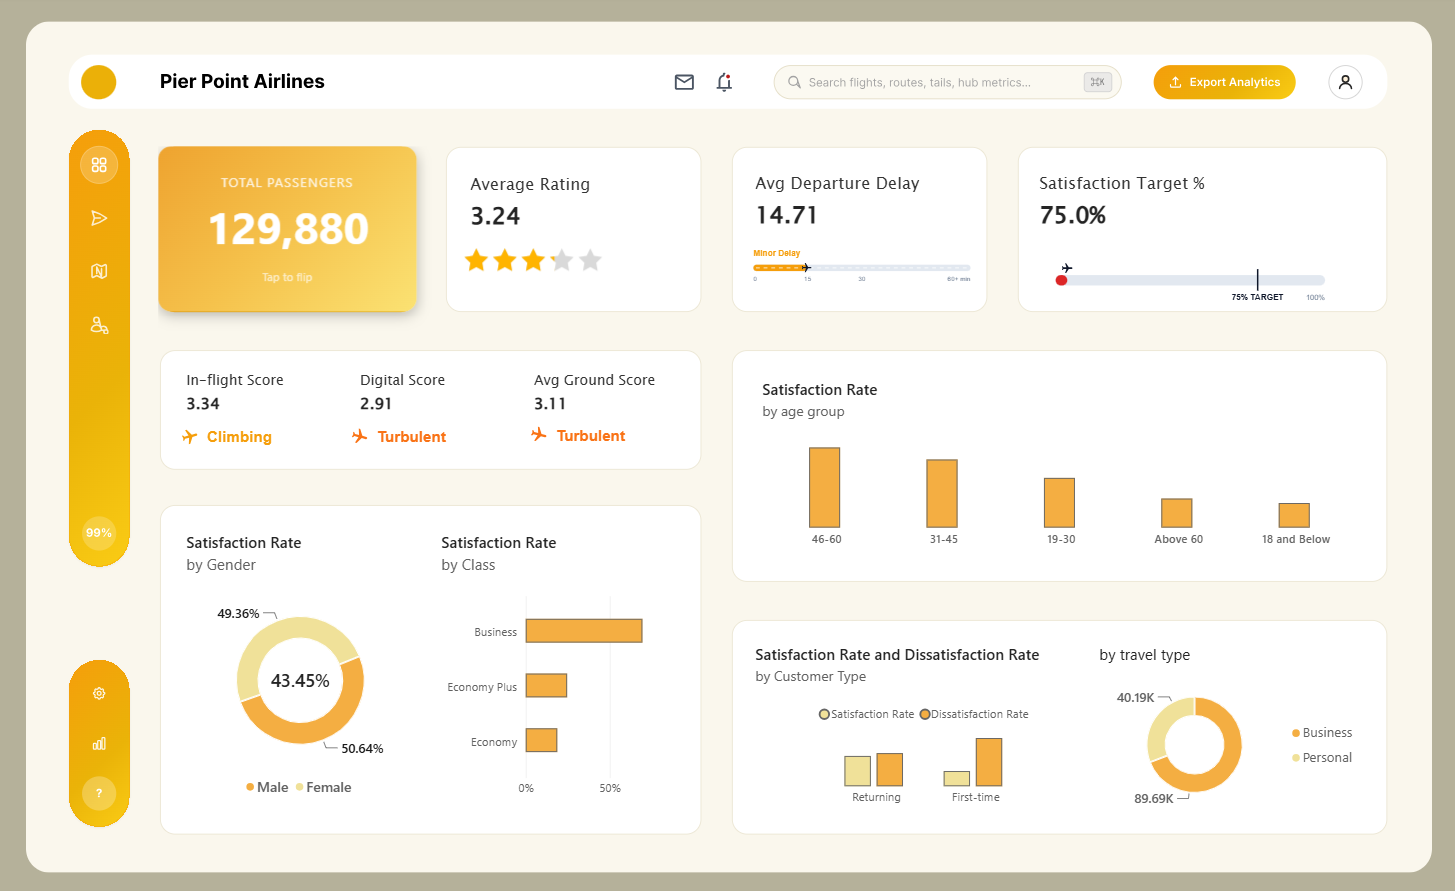

What the dashboard file says about the page in this screenshot:
{"tool":"powerbi","page":{"name":"Dashboard","canvas":[1802,1080],"ordinal":0},"visuals":[{"type":"htmlContent443BE3AD55E043BF878BED274D3A6855","fields":{"content":["Dax Calculations.Flip Card Passengers"]},"box":[283.8,207.5,367.5,227.5],"z":0},{"type":"cardVisual","fields":{"Data":["Dax Calculations.Avg Rating/Service Score"]},"box":[612.5,223.8,195,115],"z":1000},{"type":"cardVisual","fields":{"Data":["Dax Calculations.Satisfaction Target %"]},"box":[1211.1,223.3,233.3,115.6],"z":2000},{"type":"cardVisual","fields":{"Data":["Dax Calculations.Avg Departure Delay"]},"box":[912.2,223.3,233.3,115.6],"z":4000},{"type":"htmlContent443BE3AD55E043BF878BED274D3A6855","fields":{"content":["Dax Calculations.Star Rating Card"]},"box":[582.2,306.7,225.6,86.7],"z":5000},{"type":"cardVisual","fields":{"Data":["Dax Calculations.Satisfaction🤣🤣"]},"box":[1221.1,223.3,347.8,165.6],"z":6000},{"type":"cardVisual","fields":{"Data":["Dax Calculations.Avg In-flight Score","Dax Calculations.Avg Digital Score","Dax Calculations.Avg Ground Score"]},"box":[313.3,443.3,543.3,76.7],"z":6003},{"type":"cardVisual","fields":{"Data":["Dax Calculations.In-flight Status SVG"]},"box":[293.3,482.2,162.2,60],"z":6004},{"type":"cardVisual","fields":{"Data":["Dax Calculations.Digital Status SVG"]},"box":[467.8,482.2,171.1,60],"z":6005},{"type":"cardVisual","fields":{"Data":["Dax Calculations.Ground Status SVG"]},"box":[658.9,482.2,165.6,57.8],"z":6006},{"type":"clusteredColumnChart","title":"Satisfaction Rate","fields":{"Category":["Airline Quality Ratings.Age Group"],"Y":["Dax Calculations.Passenger Satisfaction Rate"]},"box":[920,452.2,662.2,211.1],"z":6007},{"type":"donutChart","fields":{"Category":["Airline Quality Ratings.Gender"],"Y":["Dax Calculations.Passenger Satisfaction Rate"]},"box":[313.3,613.3,272.2,312.2],"z":6008},{"type":"clusteredBarChart","fields":{"Category":["Airline Quality Ratings.Class"],"Y":["Dax Calculations.Satisfaction Rate"]},"box":[582.2,613.3,274.4,312.2],"z":6009},{"type":"clusteredColumnChart","fields":{"Category":["Airline Quality Ratings.Customer Type"],"Y":["Dax Calculations.Passenger Satisfaction Rate","Dax Calculations.Passenger Dissatisfaction Rate"]},"box":[912.2,731.1,392.2,204.4],"z":6010},{"type":"donutChart","title":"by travel type","fields":{"Category":["Airline Quality Ratings.Type of Travel"],"Y":["Dax Calculations.Total Passengers"]},"box":[1274.4,731.1,307.8,204.4],"z":6011},{"type":"cardVisual","fields":{"Data":["Dax Calculations.Departure Delay SVG"]},"box":[920,223.3,242.2,165.6],"z":6012}]}

Visuals, with their boxes in screenshot pixels (x1, y1, x2, y2), scaled from the page's 1802x1080 canvas onto the 1455x891 screenshot:
htmlContent443BE3AD55E043BF878BED274D3A6855 - Dax Calculations.Flip Card Passengers: [left=229, top=171, right=526, bottom=359]
cardVisual - Dax Calculations.Avg Rating/Service Score: [left=495, top=185, right=652, bottom=280]
cardVisual - Dax Calculations.Satisfaction Target %: [left=978, top=184, right=1166, bottom=280]
cardVisual - Dax Calculations.Avg Departure Delay: [left=737, top=184, right=925, bottom=280]
htmlContent443BE3AD55E043BF878BED274D3A6855 - Dax Calculations.Star Rating Card: [left=470, top=253, right=652, bottom=325]
cardVisual - Dax Calculations.Satisfaction🤣🤣: [left=986, top=184, right=1267, bottom=321]
cardVisual - Dax Calculations.Avg In-flight Score x Dax Calculations.Avg Digital Score: [left=253, top=366, right=692, bottom=429]
cardVisual - Dax Calculations.In-flight Status SVG: [left=237, top=398, right=368, bottom=447]
cardVisual - Dax Calculations.Digital Status SVG: [left=378, top=398, right=516, bottom=447]
cardVisual - Dax Calculations.Ground Status SVG: [left=532, top=398, right=666, bottom=446]
"Satisfaction Rate" clusteredColumnChart: [left=743, top=373, right=1278, bottom=547]
donutChart - Airline Quality Ratings.Gender x Dax Calculations.Passenger Satisfaction Rate: [left=253, top=506, right=473, bottom=764]
clusteredBarChart - Airline Quality Ratings.Class x Dax Calculations.Satisfaction Rate: [left=470, top=506, right=692, bottom=764]
clusteredColumnChart - Airline Quality Ratings.Customer Type x Dax Calculations.Passenger Satisfaction Rate: [left=737, top=603, right=1053, bottom=772]
"by travel type" donutChart: [left=1029, top=603, right=1278, bottom=772]
cardVisual - Dax Calculations.Departure Delay SVG: [left=743, top=184, right=938, bottom=321]
